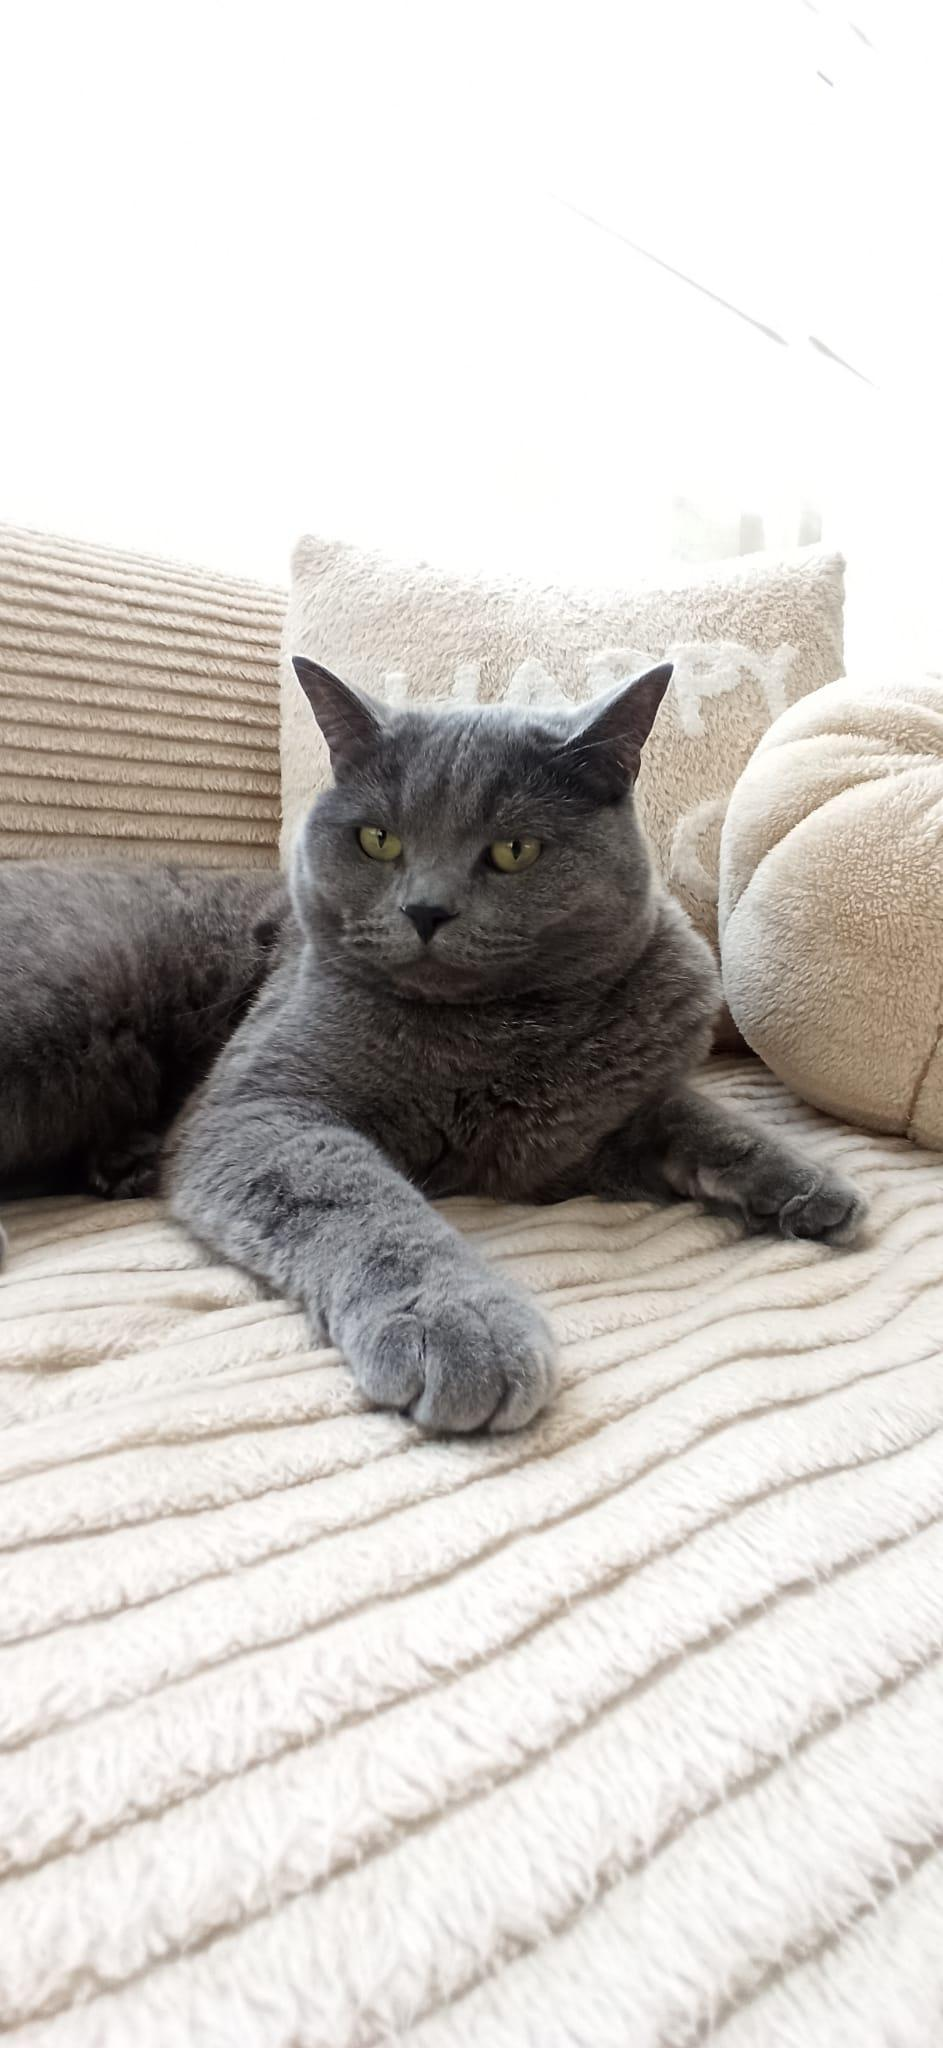kedo: (0, 661, 866, 1428)
